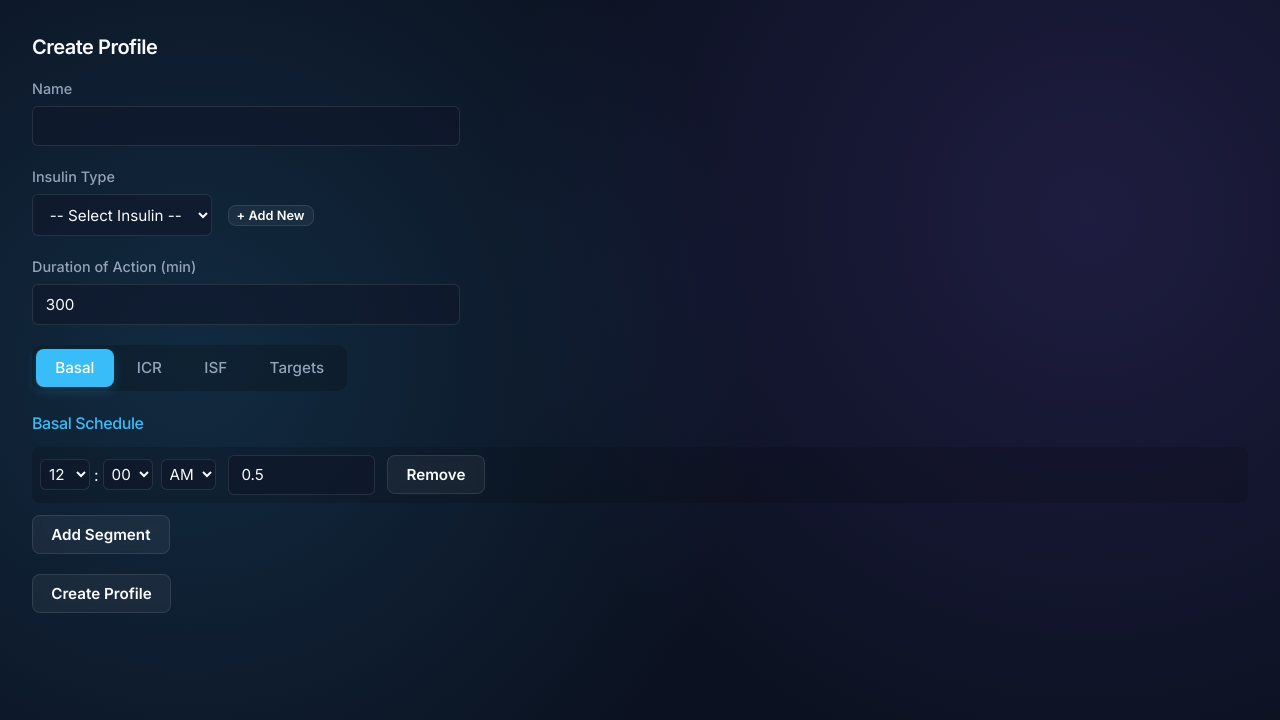
Scenario: Targets tab is rendered and can be switched to
Click the button "Targets" at (297, 368), box left=250, top=349, right=343, bottom=387
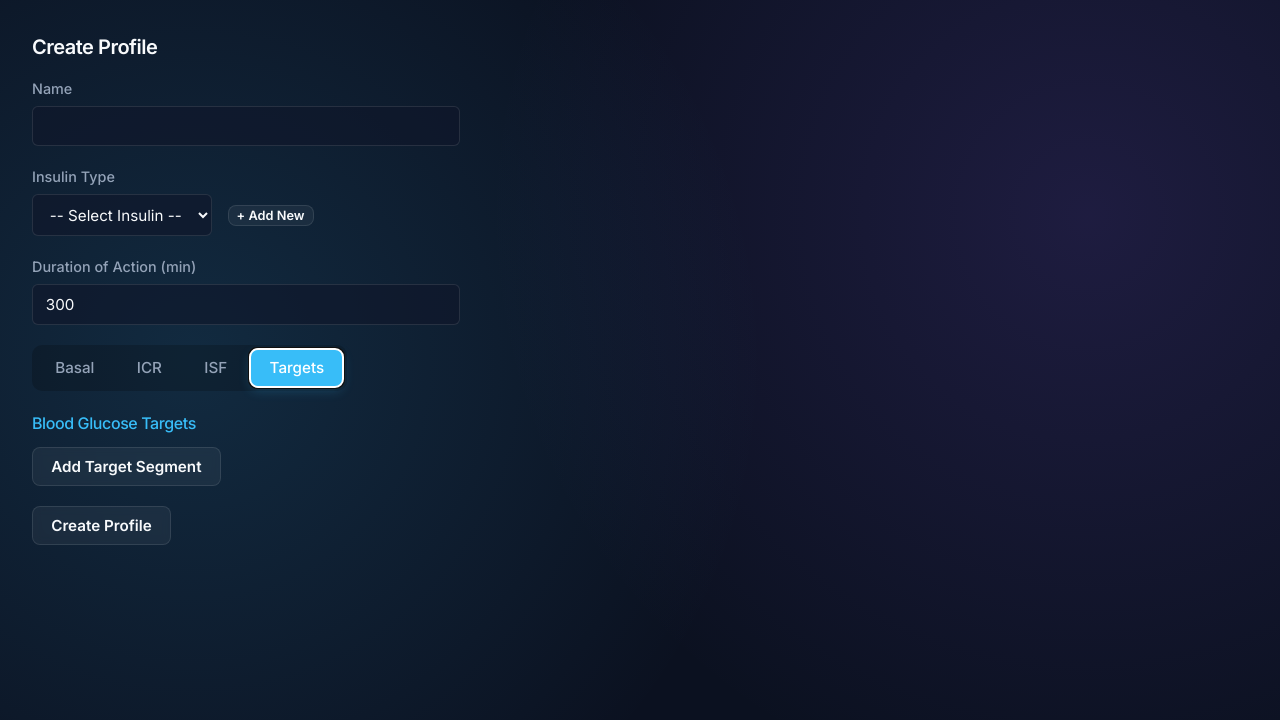
Expected: the heading "Blood Glucose Targets" is shown, left=32, top=413, right=196, bottom=433
